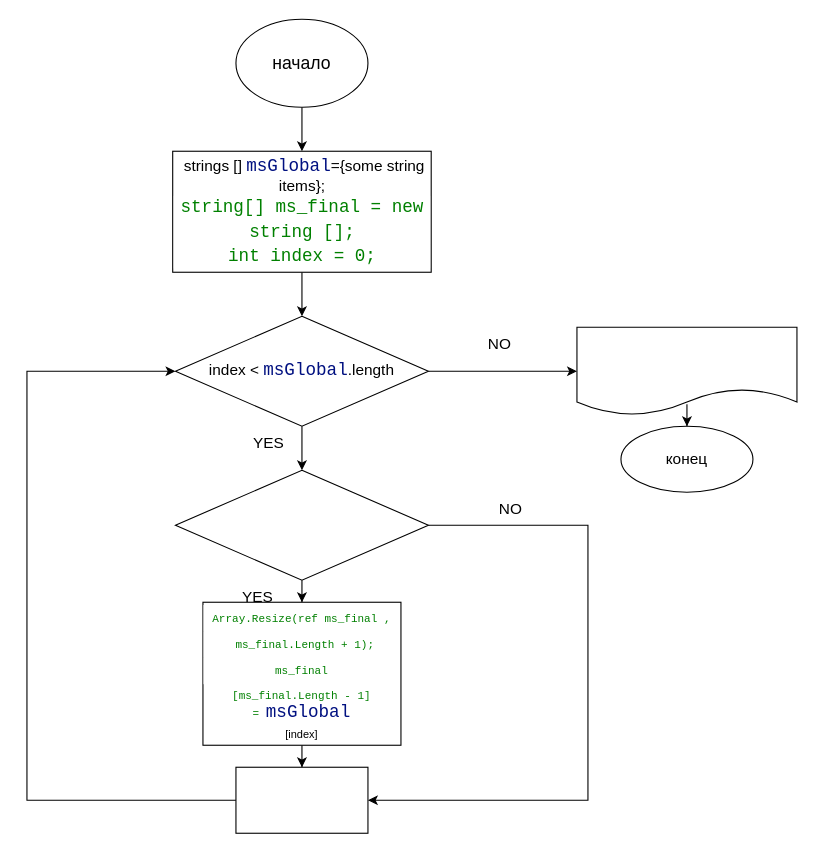
Image size: 816x853. Some labels were removed from this diagram. Each missing label, with the box of its shape:
index += 1: (235, 766, 368, 833)
msGlobal [index] <= 3: (174, 469, 428, 580)
print( ms_final ): (576, 326, 797, 415)
